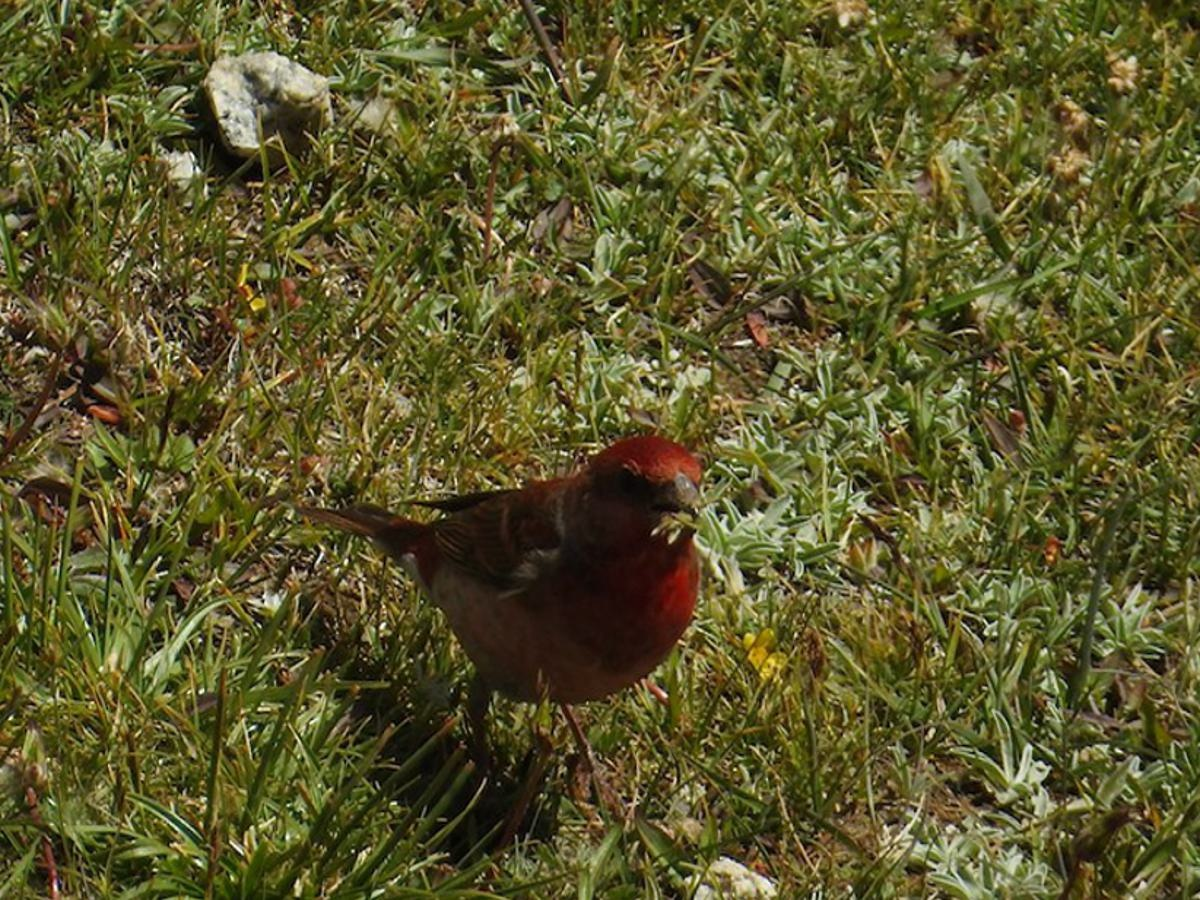rosefinch: (387, 435, 703, 710)
